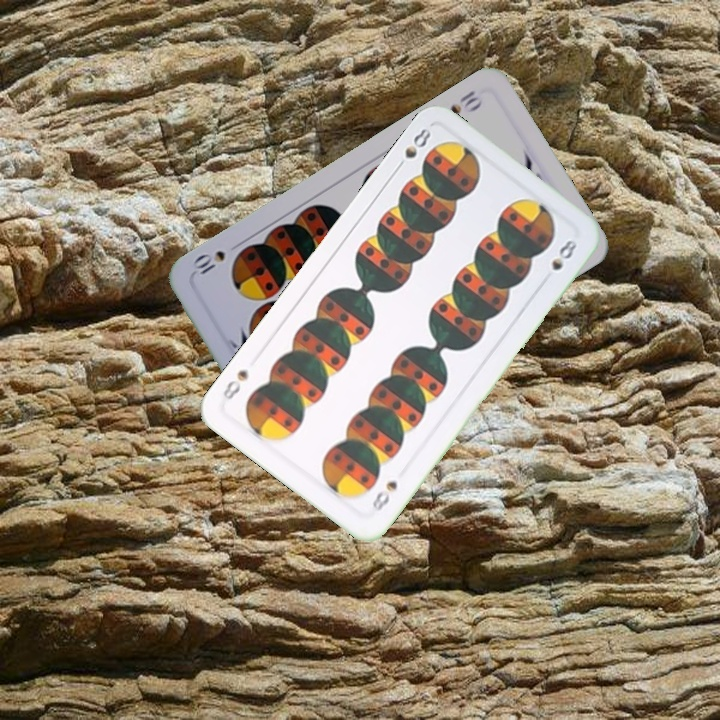S10: (445, 86, 485, 117)
S8: (391, 124, 434, 173), (367, 476, 400, 515)
